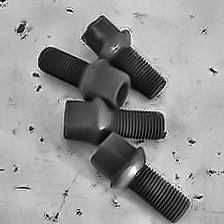holes: (169, 135, 224, 203), (41, 188, 83, 222), (9, 18, 35, 43), (25, 124, 51, 147), (10, 164, 30, 193), (202, 62, 221, 81), (31, 69, 43, 97), (59, 4, 81, 19), (108, 193, 125, 211), (196, 22, 211, 41), (1, 1, 13, 9)
